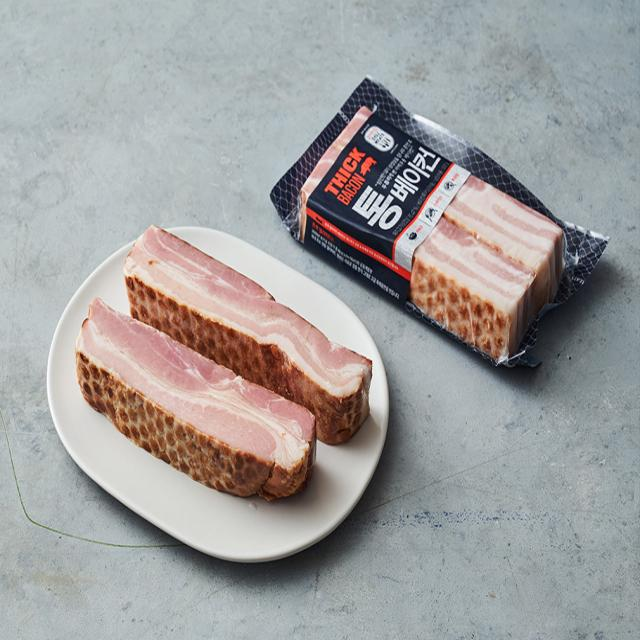bacon: (64, 230, 382, 538), (278, 86, 582, 368)
